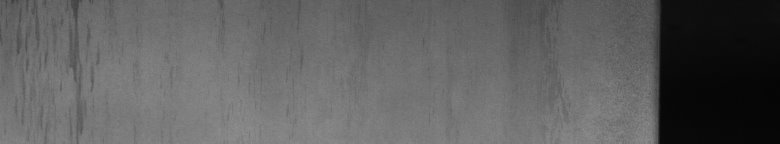ka: (6, 4, 99, 134)
